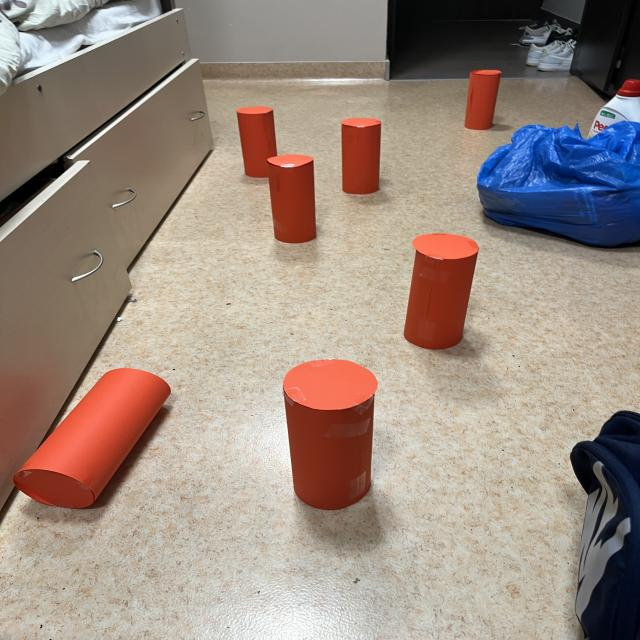przeszkoda: (14, 368, 170, 508), (283, 359, 378, 510), (404, 234, 478, 349), (266, 154, 316, 243), (341, 118, 381, 194), (236, 106, 277, 178), (465, 70, 500, 129)
